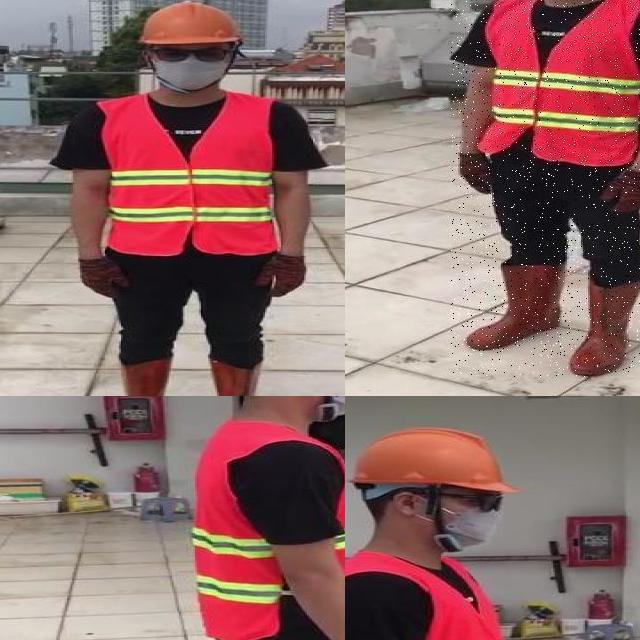boots: (468, 264, 568, 349), (571, 280, 640, 376), (106, 358, 176, 396), (210, 356, 276, 396)
face_mask: (432, 489, 510, 547), (150, 43, 230, 90)
glasses: (148, 42, 230, 68)
hand_glove: (76, 255, 134, 300), (258, 255, 308, 299)
head_helmet: (345, 424, 516, 501), (133, 0, 245, 49)
person: (49, 0, 323, 396), (451, 0, 640, 377), (345, 424, 580, 640), (165, 396, 345, 640)
vest: (193, 421, 345, 640), (98, 92, 276, 257), (478, 0, 640, 162), (345, 552, 533, 640)
